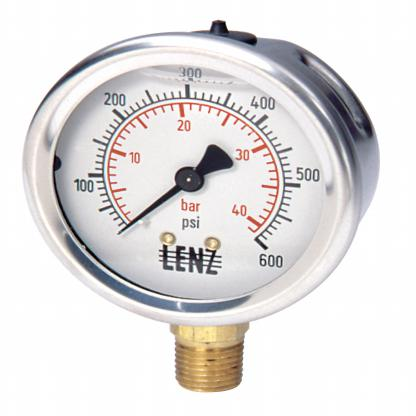needle: (118, 184, 183, 234)
